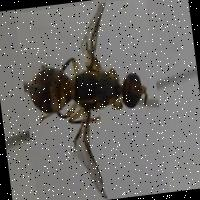Oriental-fruit-fly: (14, 0, 169, 200)
